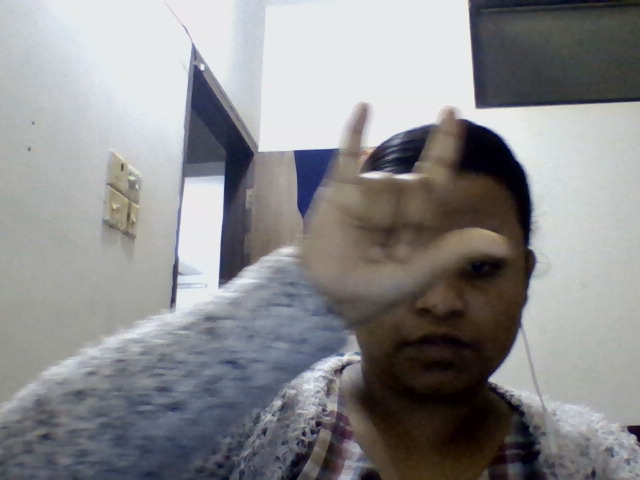I Love You: (284, 80, 548, 363)
